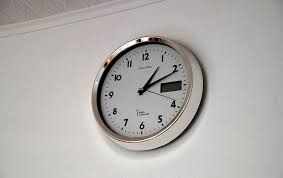clock: (100, 43, 190, 137)
